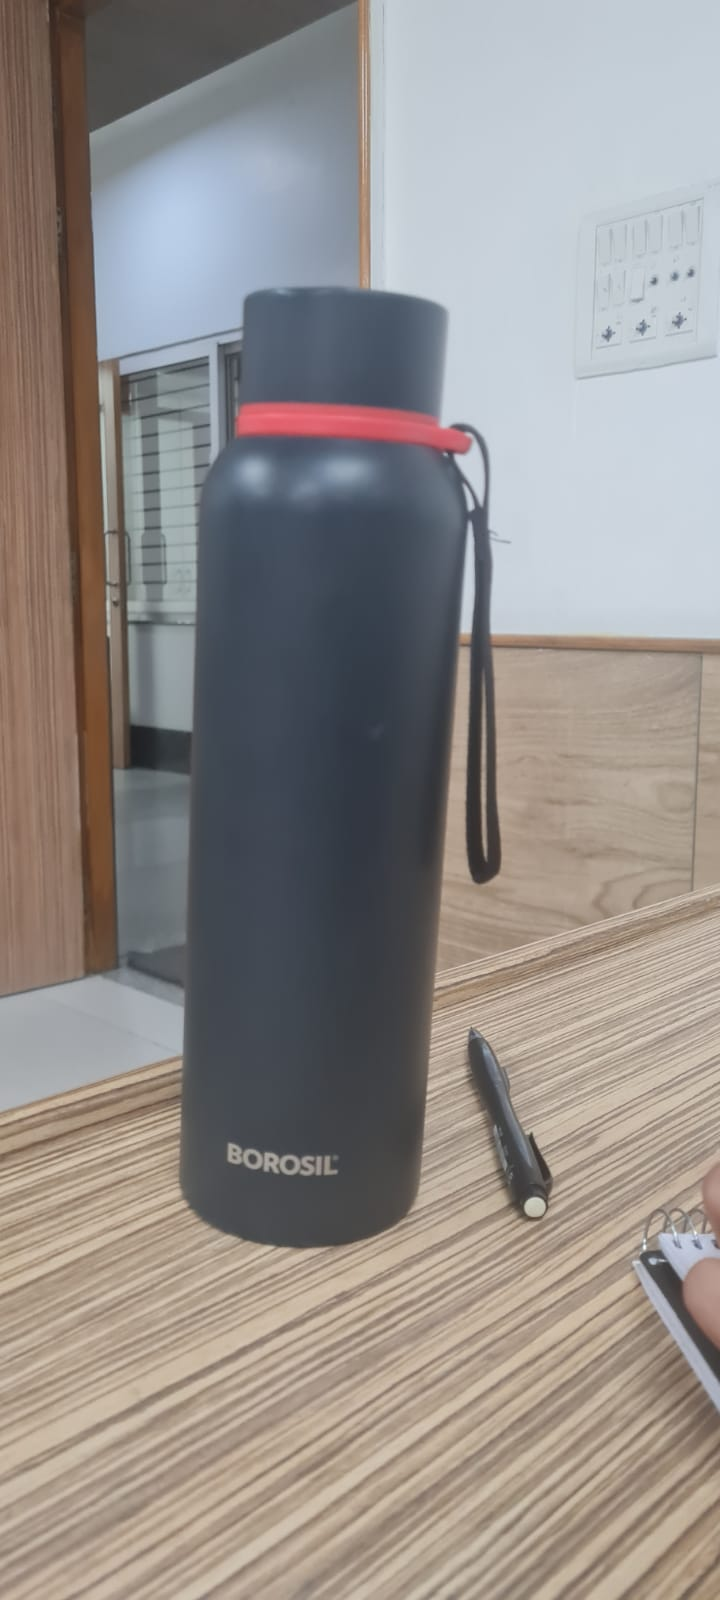bottle: (177, 277, 513, 1279)
